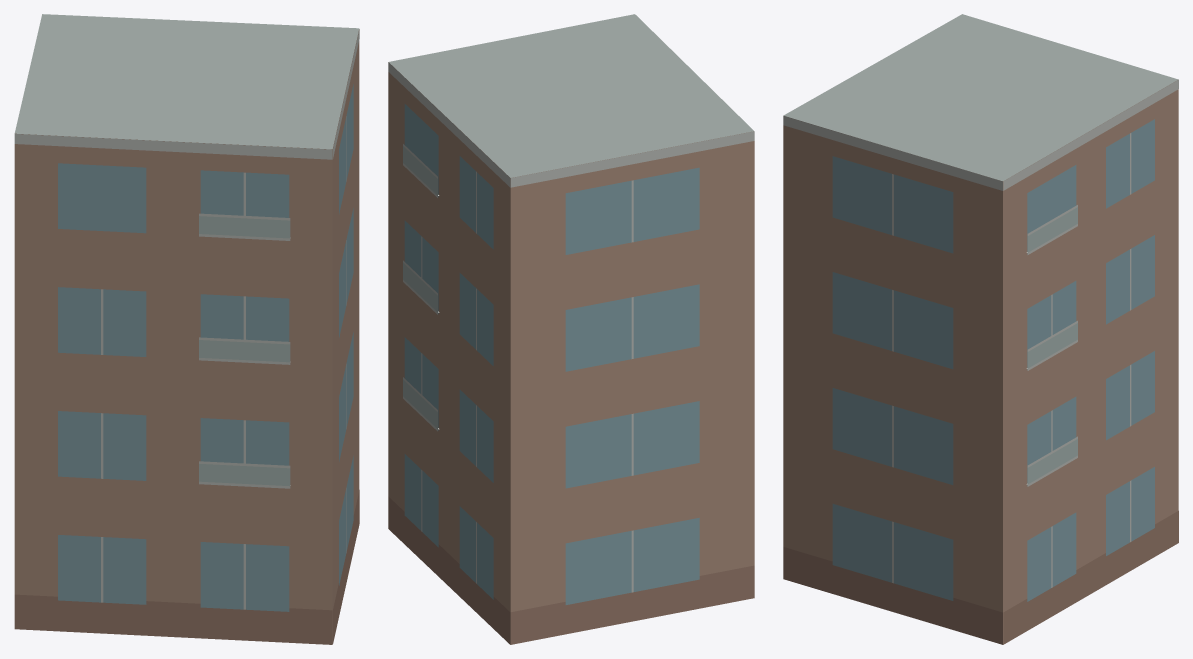
File: survey-upis-32793821.glb
3 renders of one model, left to right at view 1: azimuth 30°, elevation 25°; view 2: azimuth 150°, elevation 25°; view 3: azimuth 270°, elevation 25°, orthographic. The views are drawn at different scales.
Visible parts, largest first — view 1: survey-upis-32793821.tmp; view 2: survey-upis-32793821.tmp; view 3: survey-upis-32793821.tmp.
Part boxes in pixels (x1,y1,x2,y2): survey-upis-32793821.tmp: (14, 14, 359, 644); survey-upis-32793821.tmp: (388, 14, 754, 644); survey-upis-32793821.tmp: (783, 14, 1178, 644).
Bounding box in the file's own units: 9.07 × 11.7 × 9.05.
